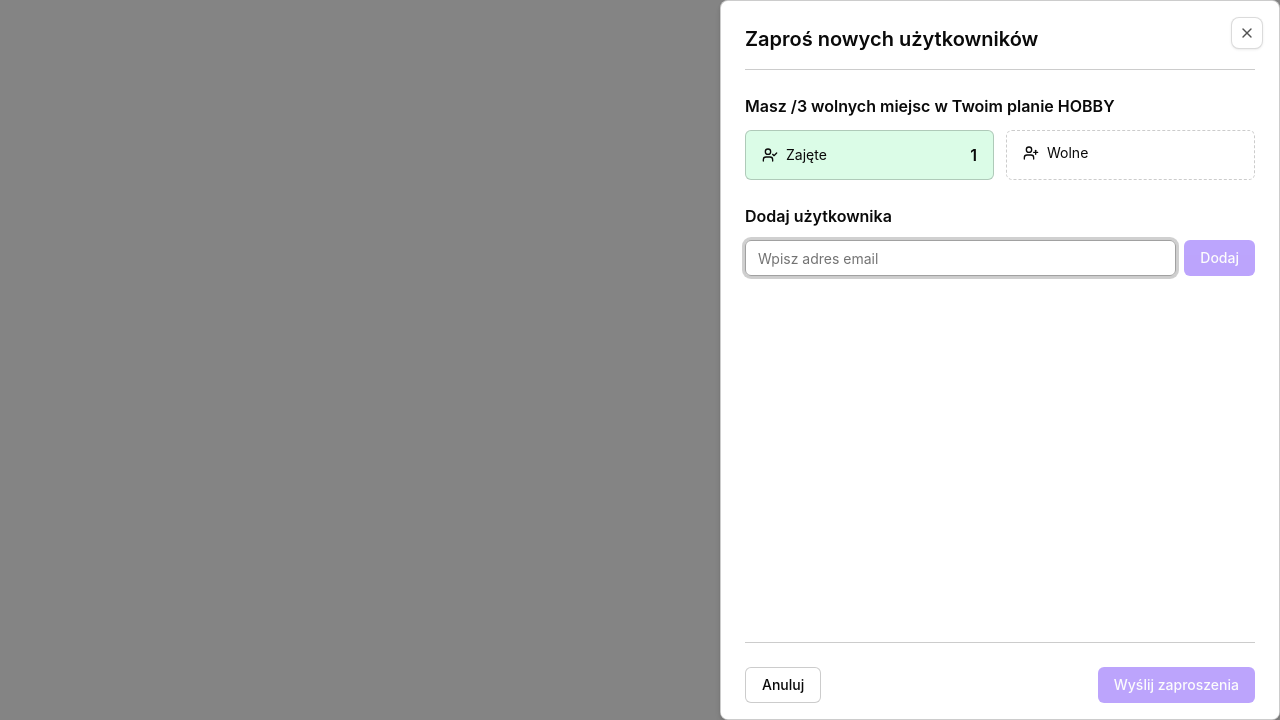
Test: InviteUsersDialog › Adding Invitations › should show error for invalid email format
This screenshot has width=1280, height=720.
Step 1. Type "invalid-email" into the field with placeholder "Wpisz adres email" → {"x": 961, "y": 258}, box [745,240,1176,276]
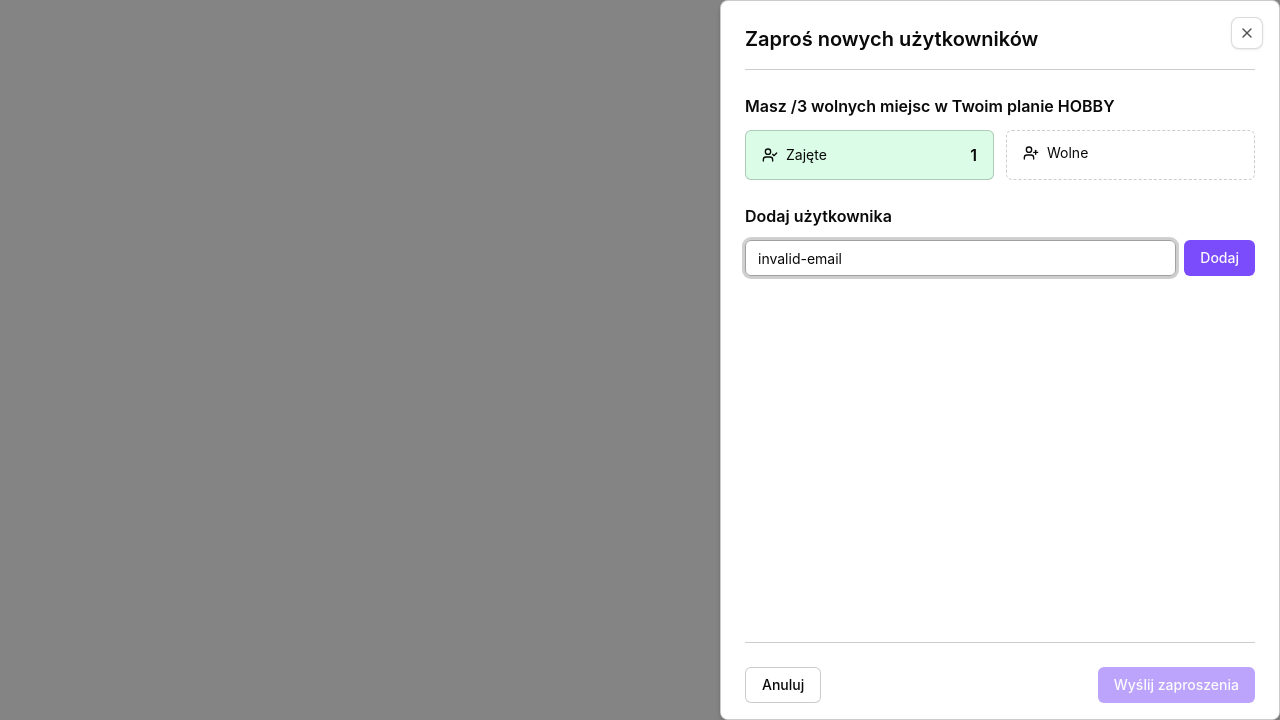
Step 2. Click the button "Dodaj" → {"x": 1220, "y": 258}, box [1184,240,1255,276]
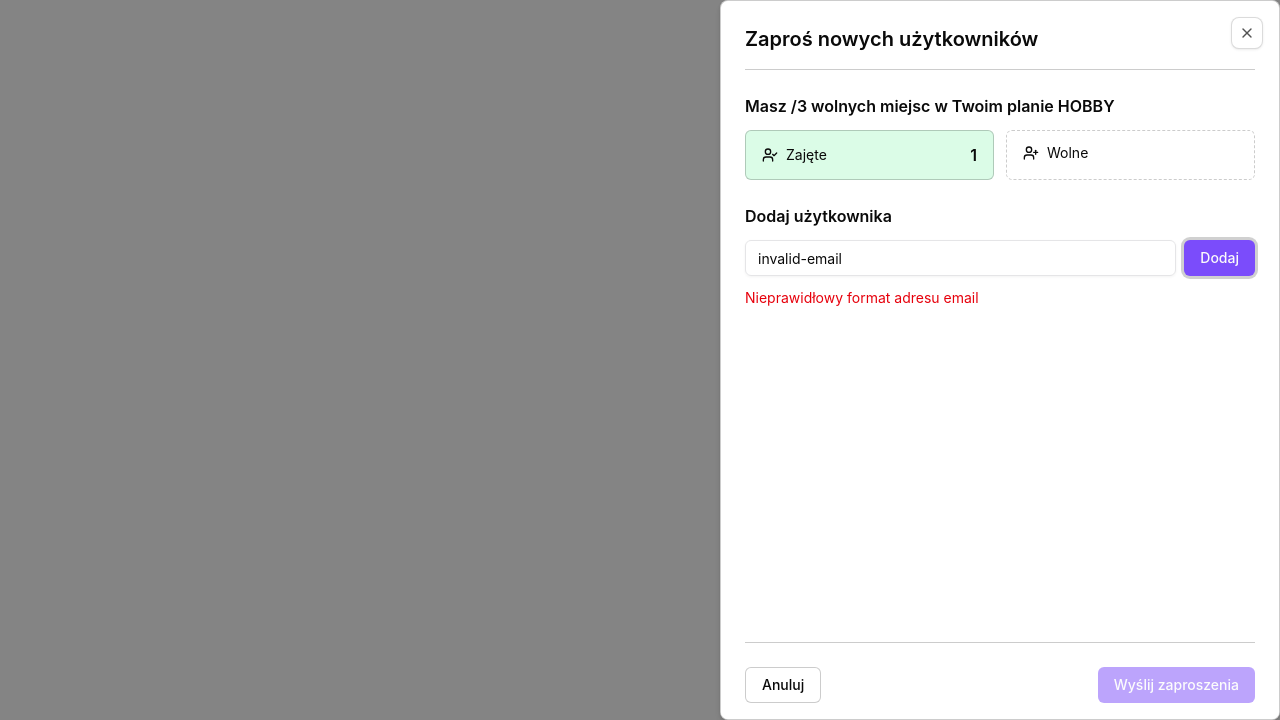
Expected: the text "Nieprawidłowy format adresu email" is shown, [745,289,979,306]
